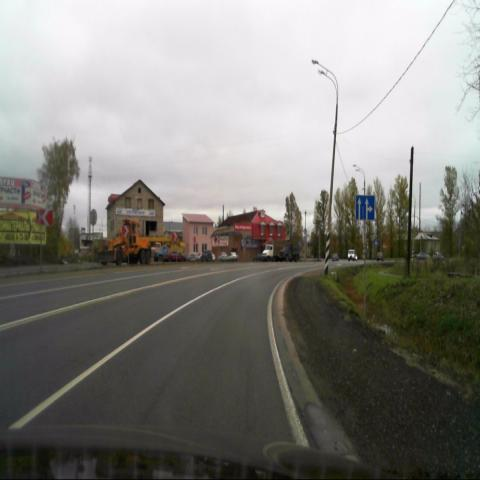5_15_2_2: (356, 196, 375, 220)
